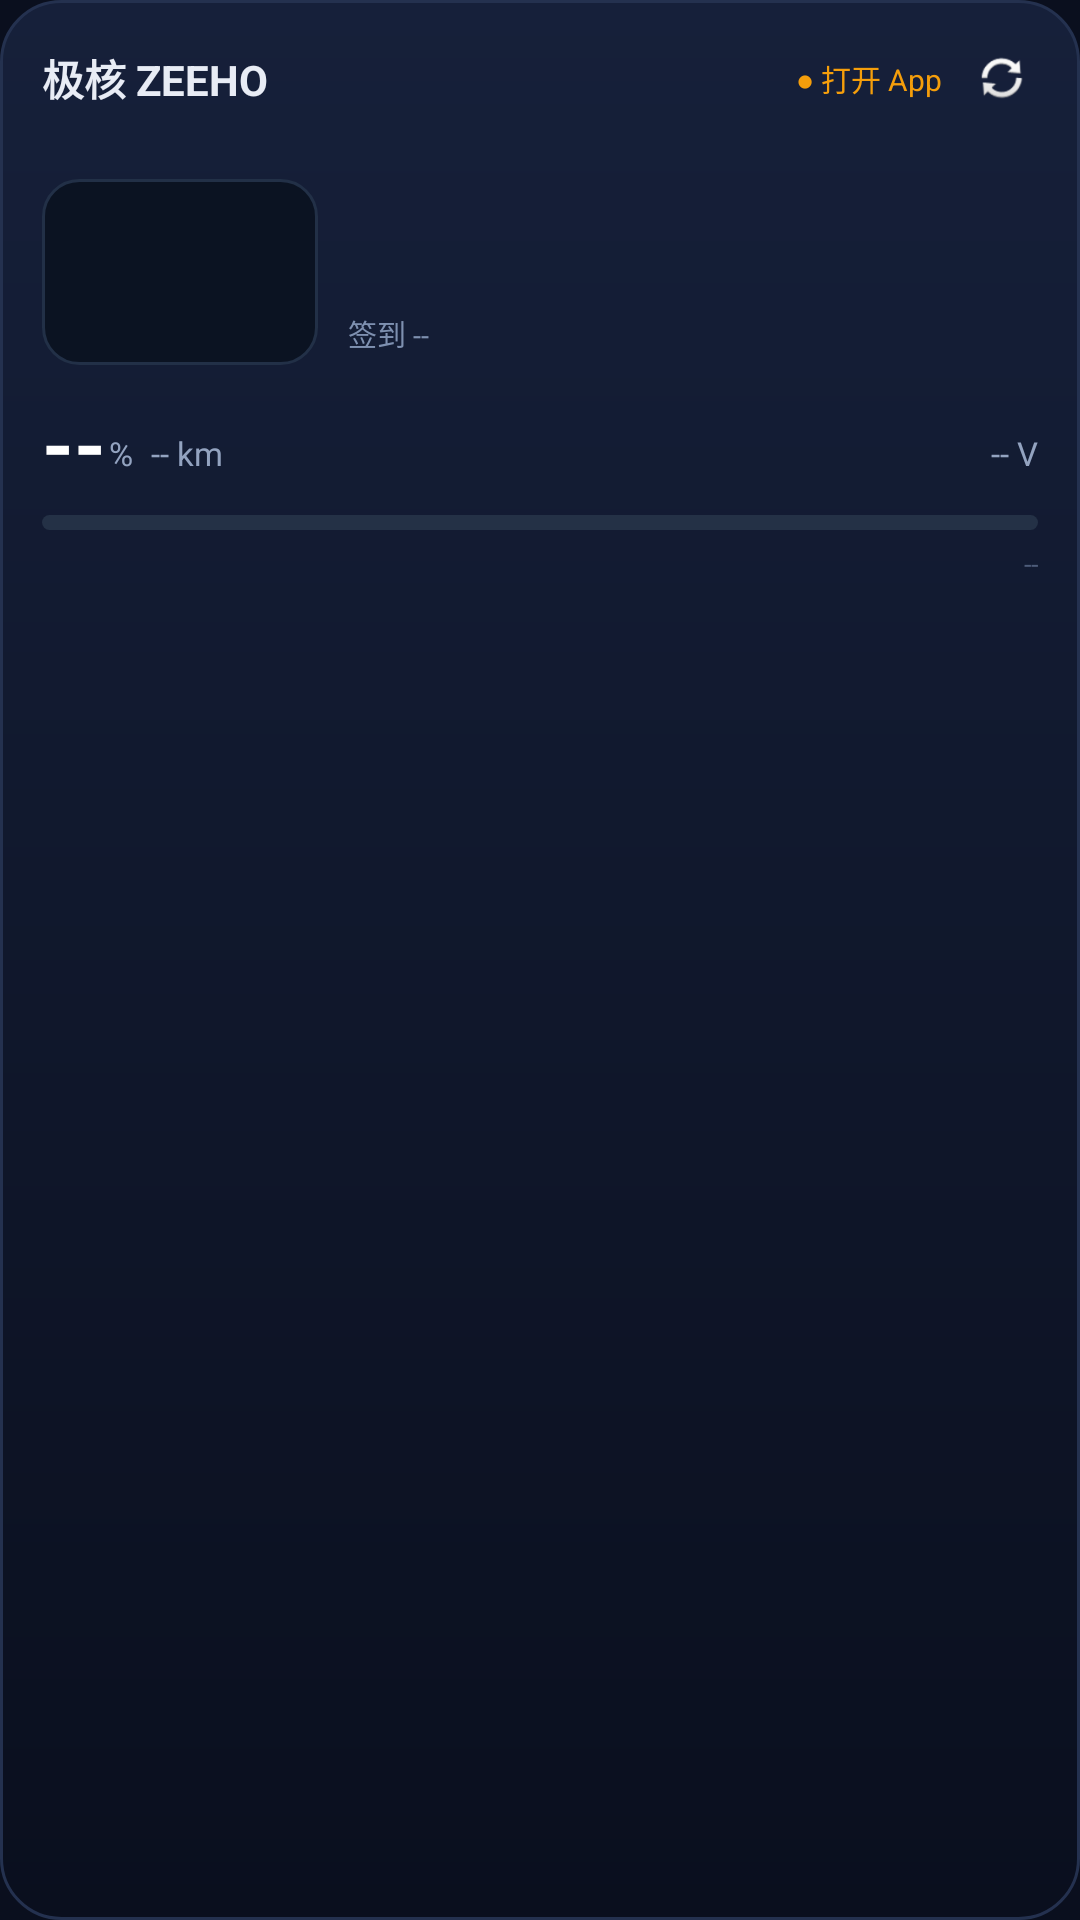

Named icons in this screenshot (1080x1920) and their bounding boxes, {"left": x1, "top": y1, "right": x2, "bottom": y2}:
刷新: {"left": 981, "top": 58, "right": 1023, "bottom": 98}
